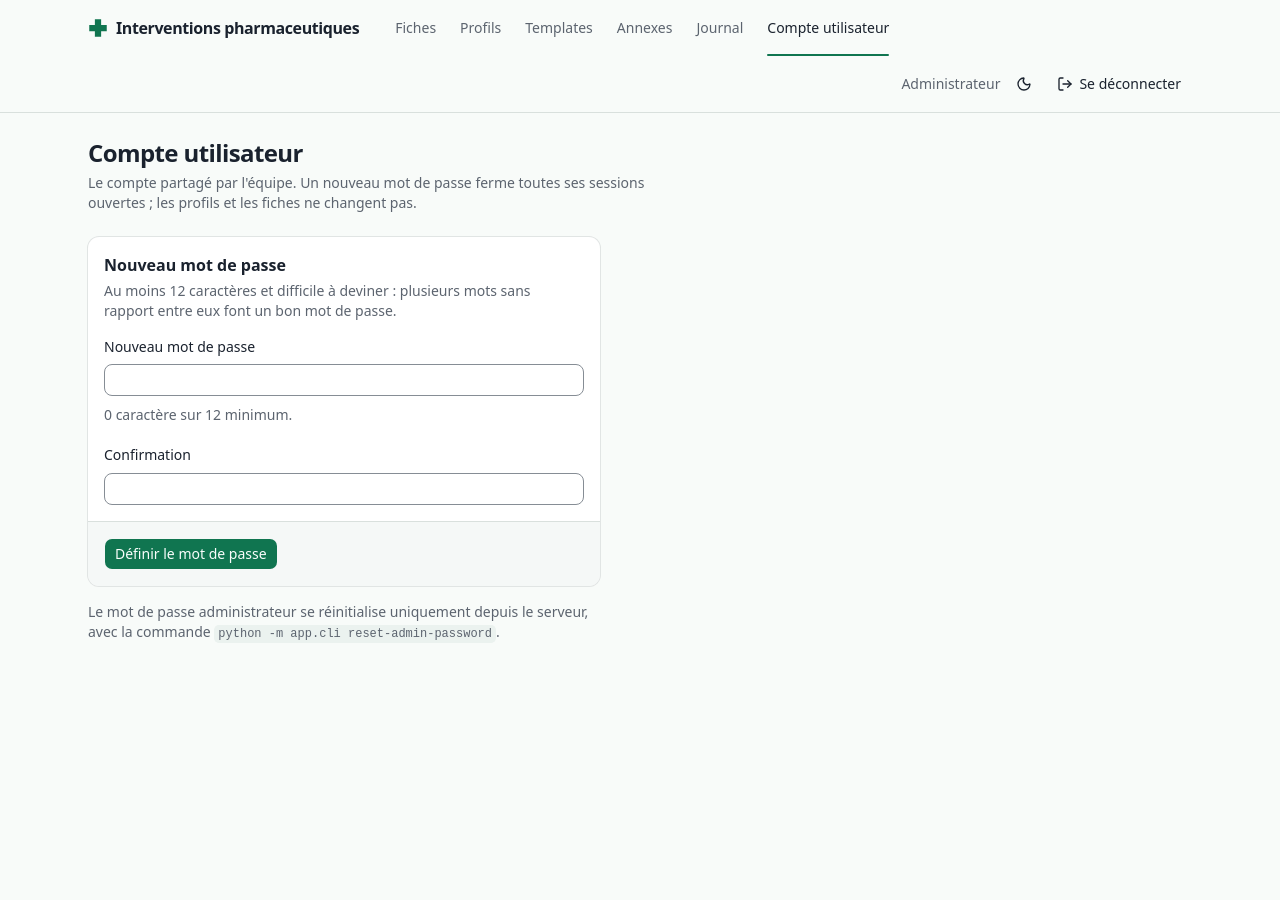
Scenario: Compte utilisateur page › too short or mismatched passwords are refused before any request
Type "court" into the password field labelled "Nouveau mot de passe". click: [344, 380]
box: 104,364 -> 584,396
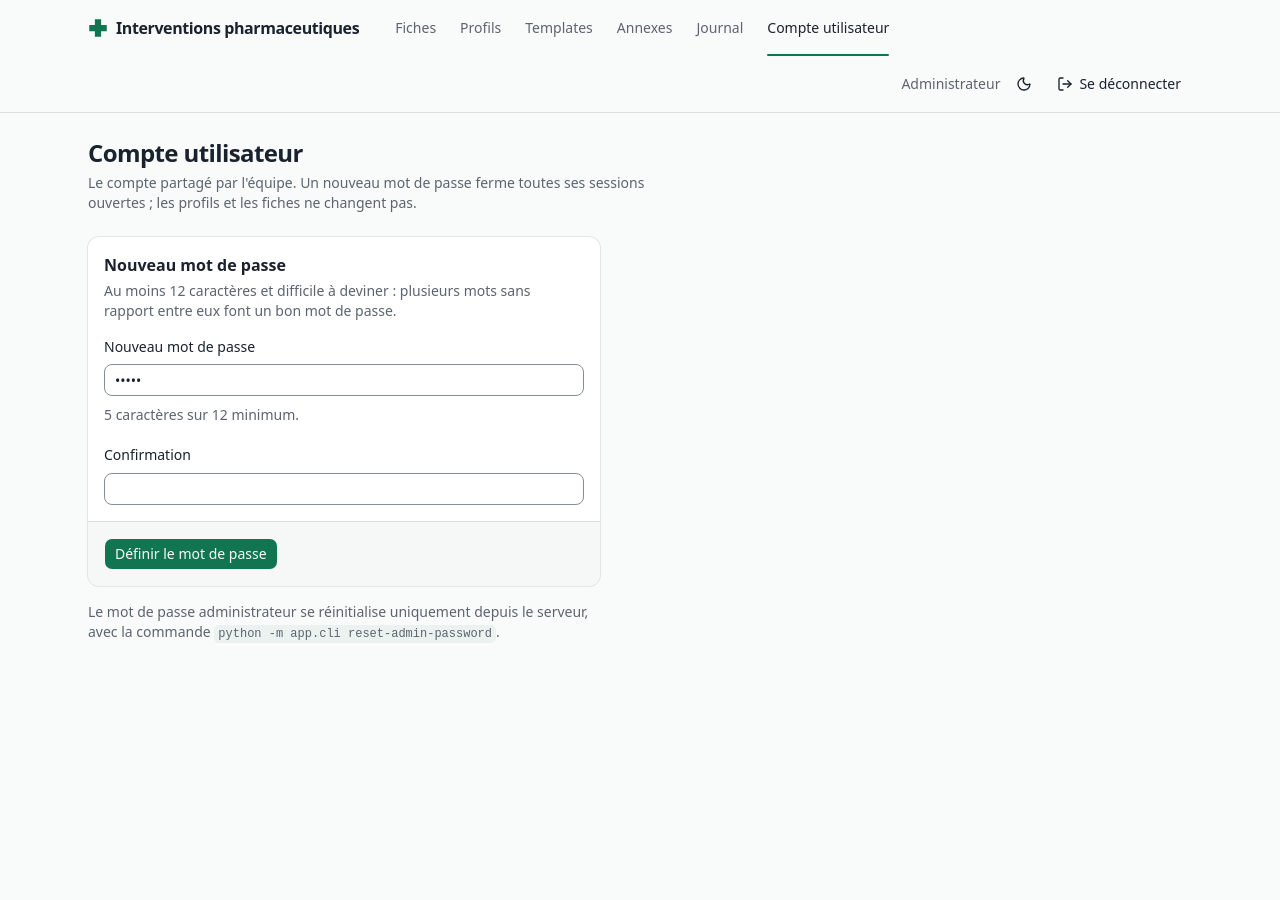
Type "autre" into the password field labelled "Confirmation". click: [344, 488]
box: 104,472 -> 584,504
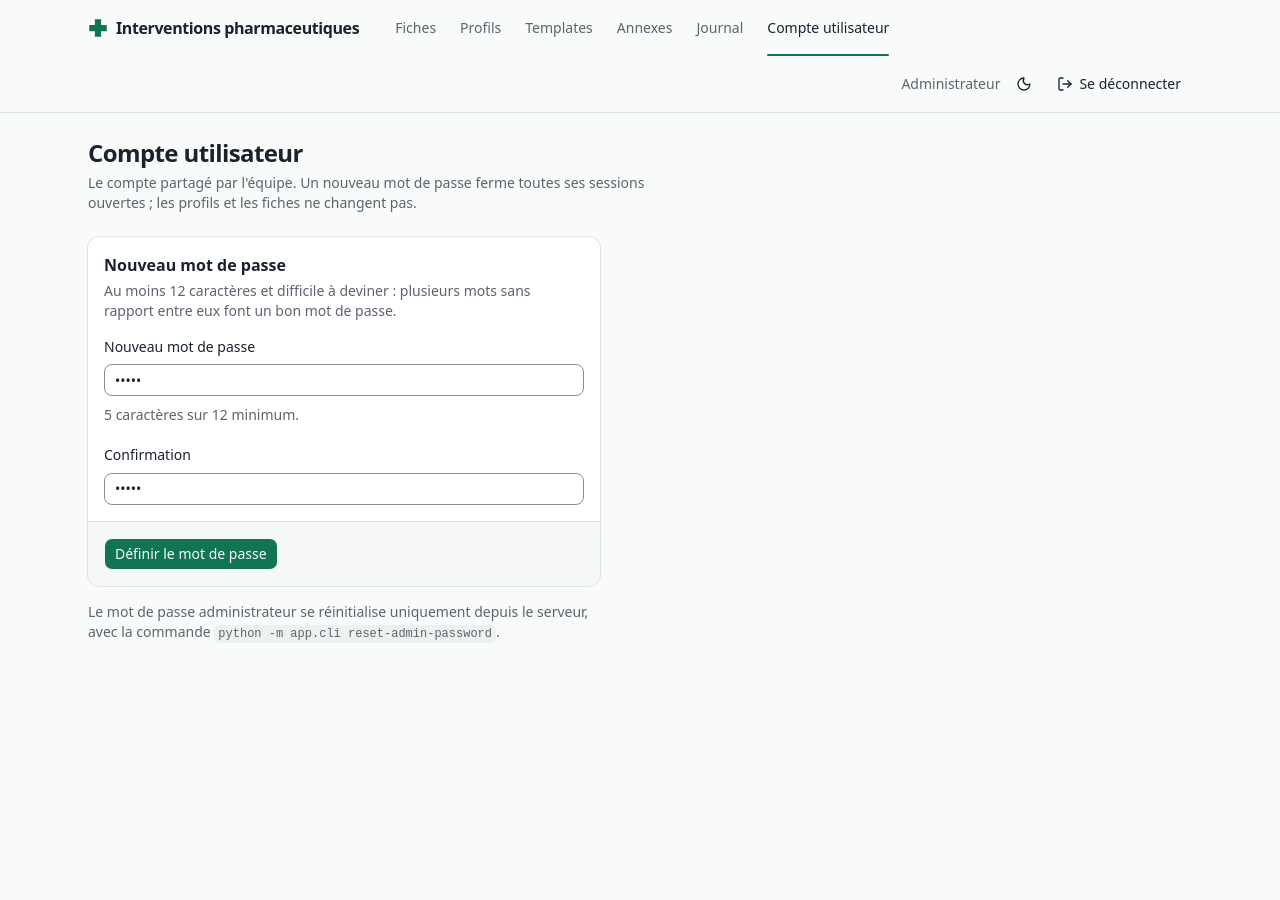
Click the button "Définir le mot de passe". click: [191, 554]
box: 104,538 -> 278,570
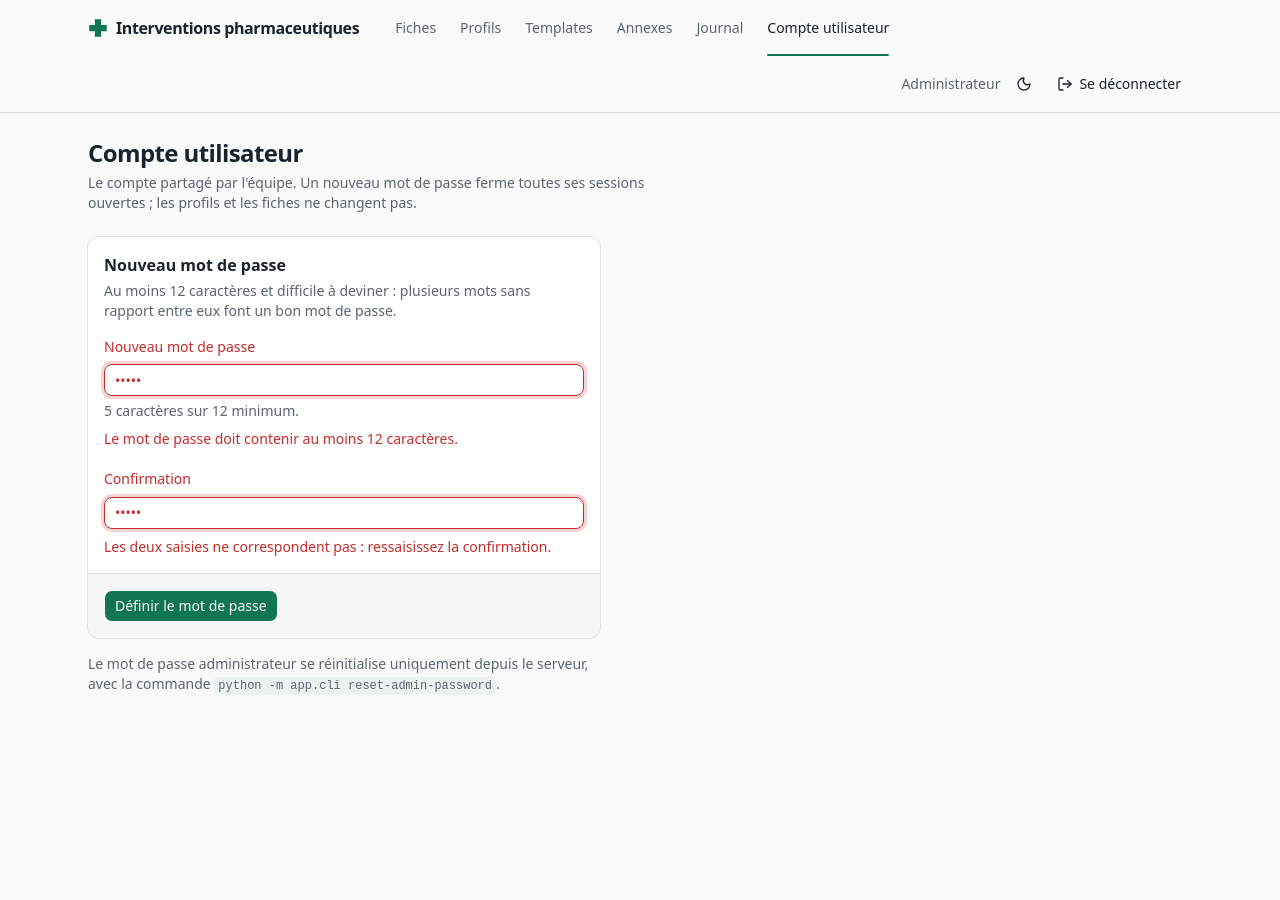
Expected: the text "Le mot de passe doit contenir au moins 12 caractères." is shown, 104,429 -> 458,448
Expected: the text "Les deux saisies ne correspondent pas : ressaisissez la confirmation." is shown, 104,536 -> 584,556
